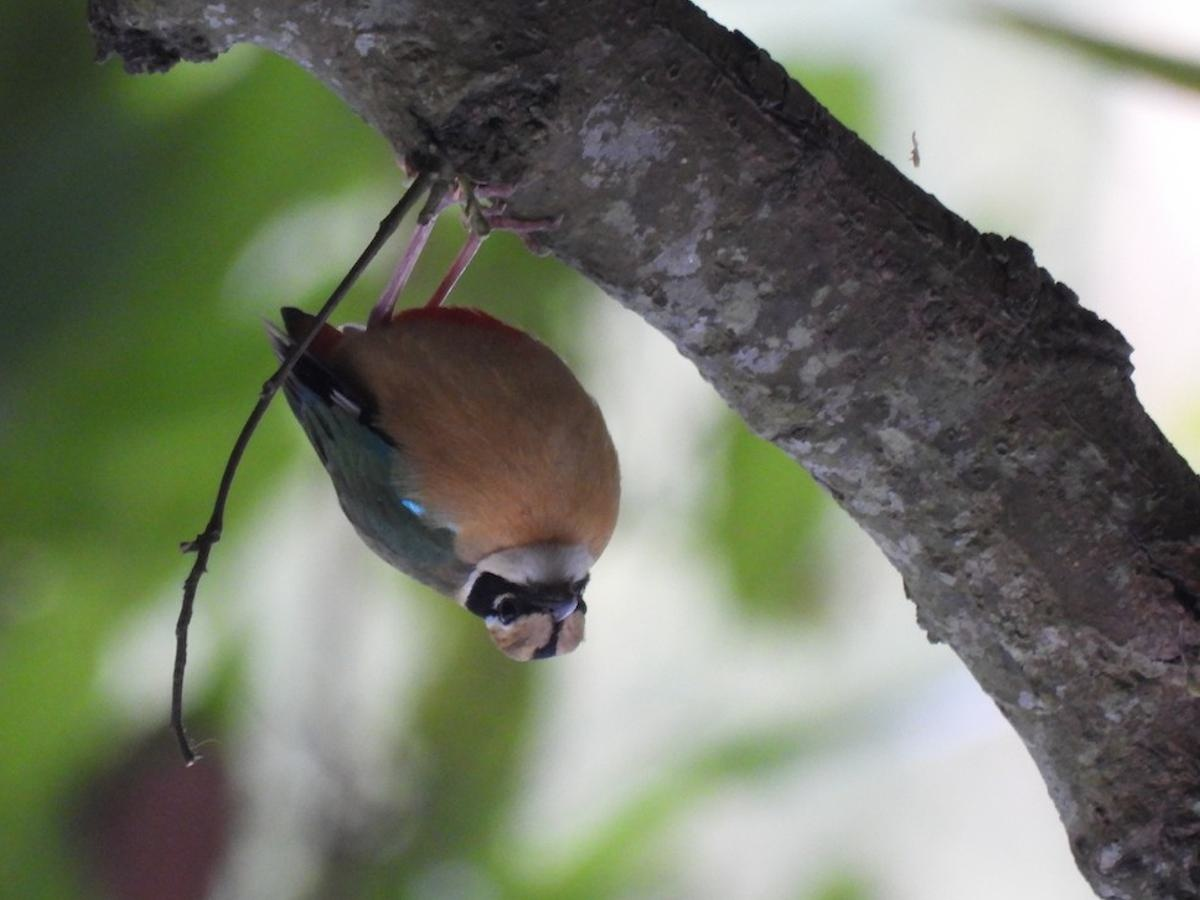pitta: (250, 278, 647, 701)
